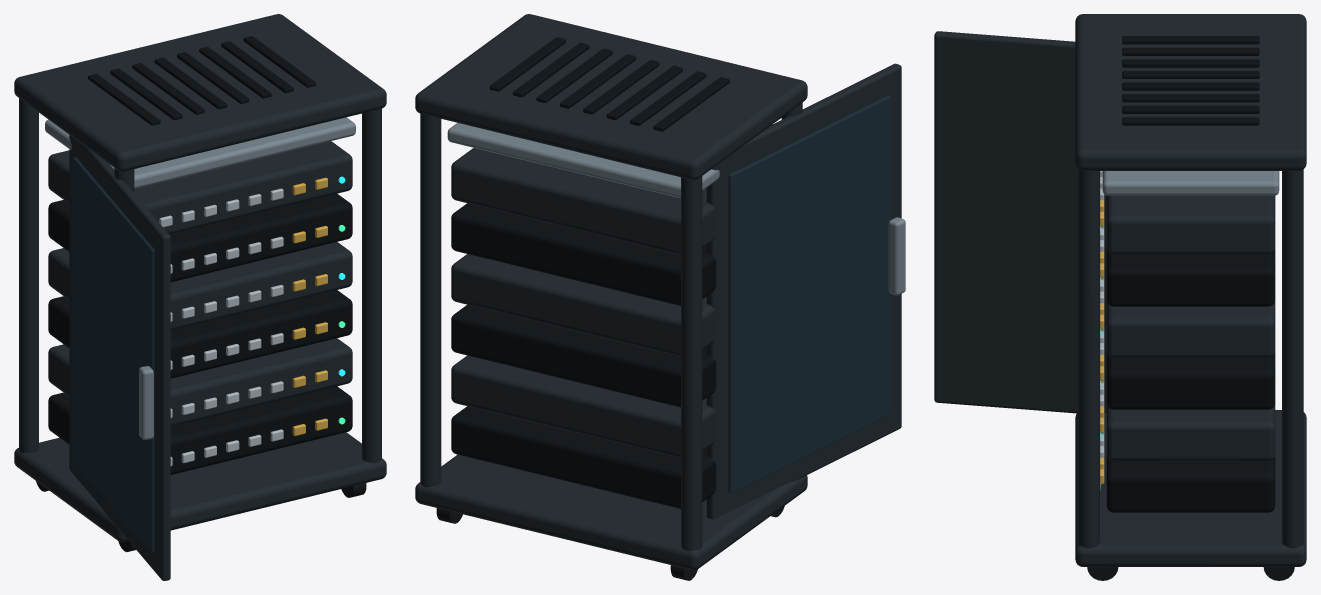
File: network-rack.glb
3 views of the same model, side by side, from view 1: azimuth 30°, elevation 25°; view 2: azimuth 150°, elevation 25°; view 3: azimuth 270°, elevation 25° (orthographic). The views are drawn at different scales.
Parts seen in each view (by area): view 1: Rack equipment (×6), Glass rack door frame, Rack roof, Tempered glass door, Rack plinth, Premium enclosed network equipment rack, Roof vent (×8), Top cable tray, Rack handle; view 2: Rack equipment (×6), Glass rack door frame, Tempered glass door, Rack roof, Rack plinth, Premium enclosed network equipment rack, Roof vent (×8), Top cable tray, Rack handle; view 3: Rack equipment (×6), Glass rack door frame, Rack roof, Premium enclosed network equipment rack, Rack plinth, Roof vent (×8), Top cable tray.
Part boxes in pixels (left/top/right/bottom): Rack equipment (×6): left=48, top=141, right=352, bottom=474; Glass rack door frame: left=69, top=135, right=170, bottom=580; Rack roof: left=14, top=14, right=386, bottom=171; Tempered glass door: left=72, top=157, right=154, bottom=551; Rack plinth: left=14, top=432, right=386, bottom=542; Premium enclosed network equipment rack: left=19, top=98, right=381, bottom=463; Roof vent (×8): left=88, top=36, right=316, bottom=125; Top cable tray: left=45, top=117, right=355, bottom=188; Rack handle: left=139, top=366, right=153, bottom=439; Rack equipment (×6): left=451, top=148, right=716, bottom=508; Glass rack door frame: left=706, top=63, right=901, bottom=519; Tempered glass door: left=728, top=95, right=890, bottom=493; Rack roof: left=415, top=14, right=807, bottom=179; Rack plinth: left=415, top=454, right=807, bottom=570; Premium enclosed network equipment rack: left=420, top=102, right=802, bottom=550; Roof vent (×8): left=489, top=37, right=729, bottom=131; Top cable tray: left=447, top=123, right=719, bottom=198; Rack handle: left=888, top=217, right=905, bottom=295; Rack equipment (×6): left=1106, top=195, right=1275, bottom=512; Glass rack door frame: left=934, top=31, right=1106, bottom=413; Rack roof: left=1075, top=14, right=1306, bottom=170; Premium enclosed network equipment rack: left=1078, top=169, right=1303, bottom=548; Rack plinth: left=1075, top=410, right=1306, bottom=566; Roof vent (×8): left=1122, top=36, right=1259, bottom=125; Top cable tray: left=1102, top=171, right=1279, bottom=195.
Size of the model in its own units: 1.91 by 2.49 by 1.9.
